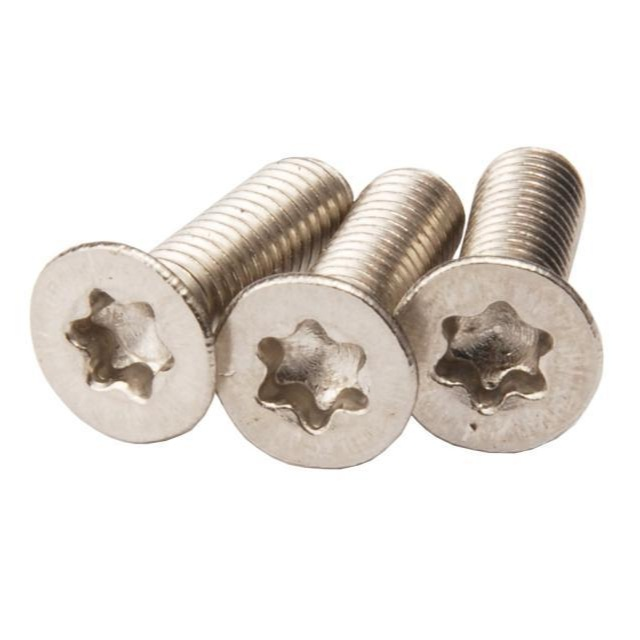torx: (426, 300, 554, 419), (252, 317, 372, 437), (62, 289, 173, 406)
